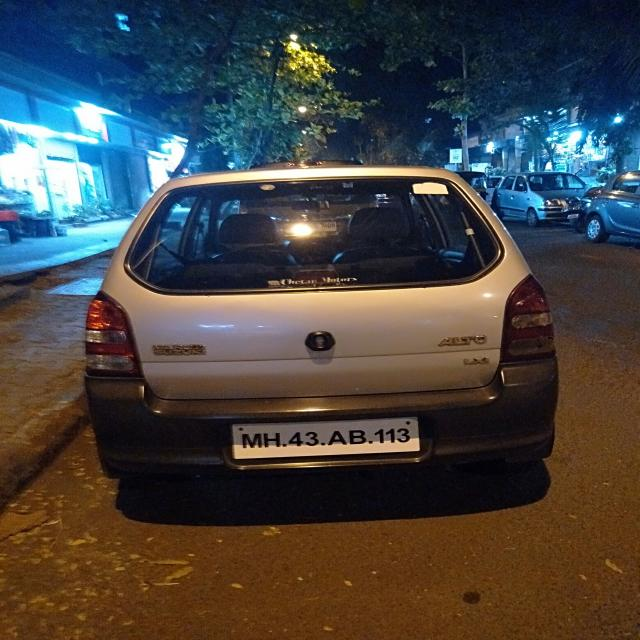Number-Plate: (238, 419, 423, 454)
